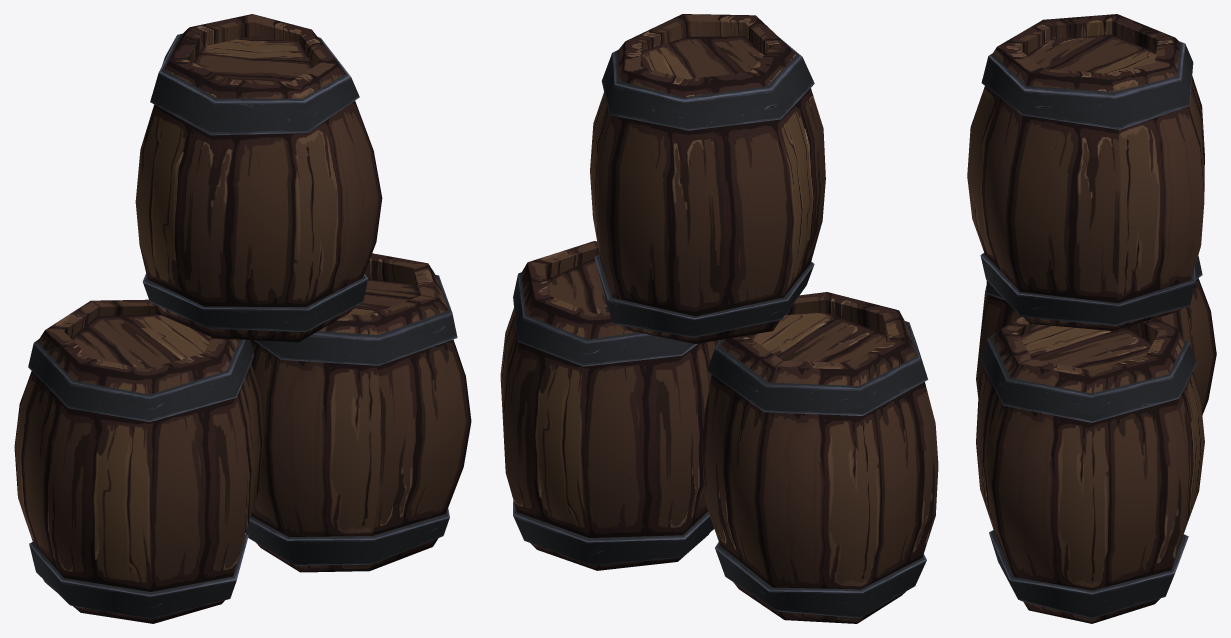
The model's file is SM_PROP_barrel_dungeon_04.fbx.
3 views of the same model, side by side, from view 1: azimuth 30°, elevation 25°; view 2: azimuth 150°, elevation 25°; view 3: azimuth 270°, elevation 25° (orthographic). The views are drawn at different scales.
Parts seen in each view (by area): view 1: SM_PROP_barrel_dungeon_04; view 2: SM_PROP_barrel_dungeon_04; view 3: SM_PROP_barrel_dungeon_04.
Boxes of the visible parts, bbox=[...] form: SM_PROP_barrel_dungeon_04: bbox=[14, 14, 471, 623]; SM_PROP_barrel_dungeon_04: bbox=[500, 14, 938, 623]; SM_PROP_barrel_dungeon_04: bbox=[967, 14, 1216, 623].
Size of the model in its own units: 146 by 169 by 77.63.
